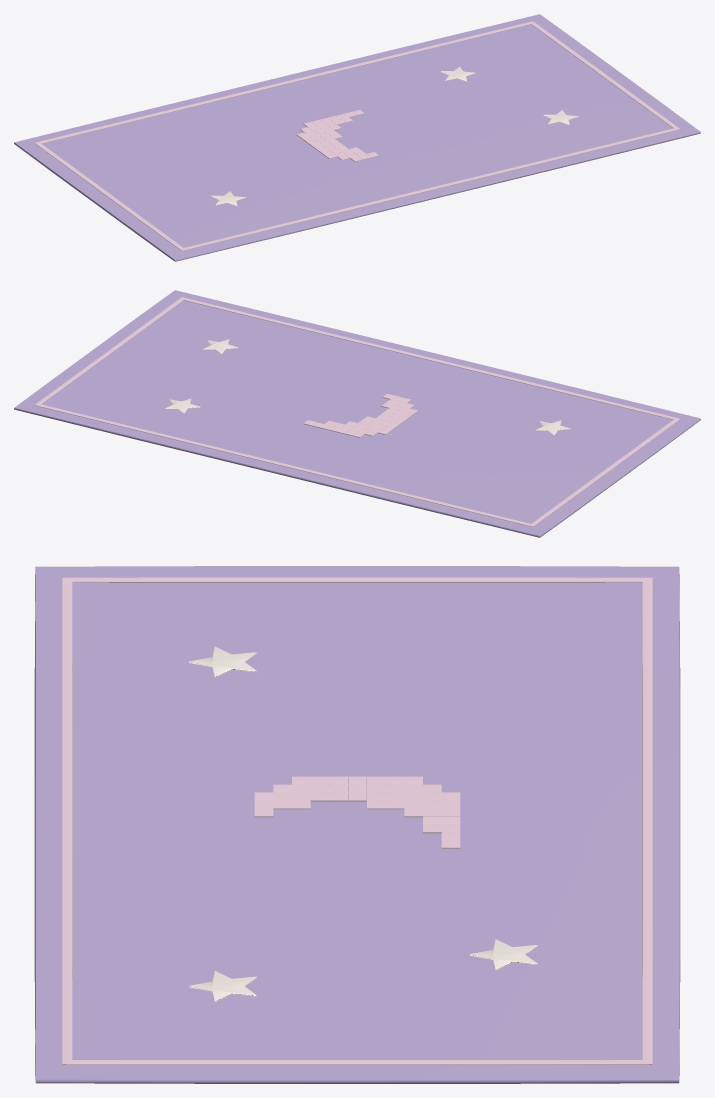
Rendered from moon_rug.glb.
3 views of the same model, one above another, from view 1: azimuth 30°, elevation 25°; view 2: azimuth 150°, elevation 25°; view 3: azimuth 270°, elevation 25° (orthographic). The views are drawn at different scales.
Visible parts, largest first — view 1: rug, rug border (×4); view 2: rug, rug border (×4); view 3: rug, rug border (×4), rug star (×3).
Boxes of the visible parts, box(x1,y1,x2,y2) form: rug: box(14, 14, 700, 261); rug border (×4): box(35, 21, 680, 250); rug: box(14, 290, 700, 537); rug border (×4): box(34, 297, 679, 526); rug: box(34, 566, 680, 1083); rug border (×4): box(62, 577, 652, 1064); rug star (×3): box(189, 646, 537, 1001).
Size of the model in its own units: 6.5 by 0.049 by 3.45.
